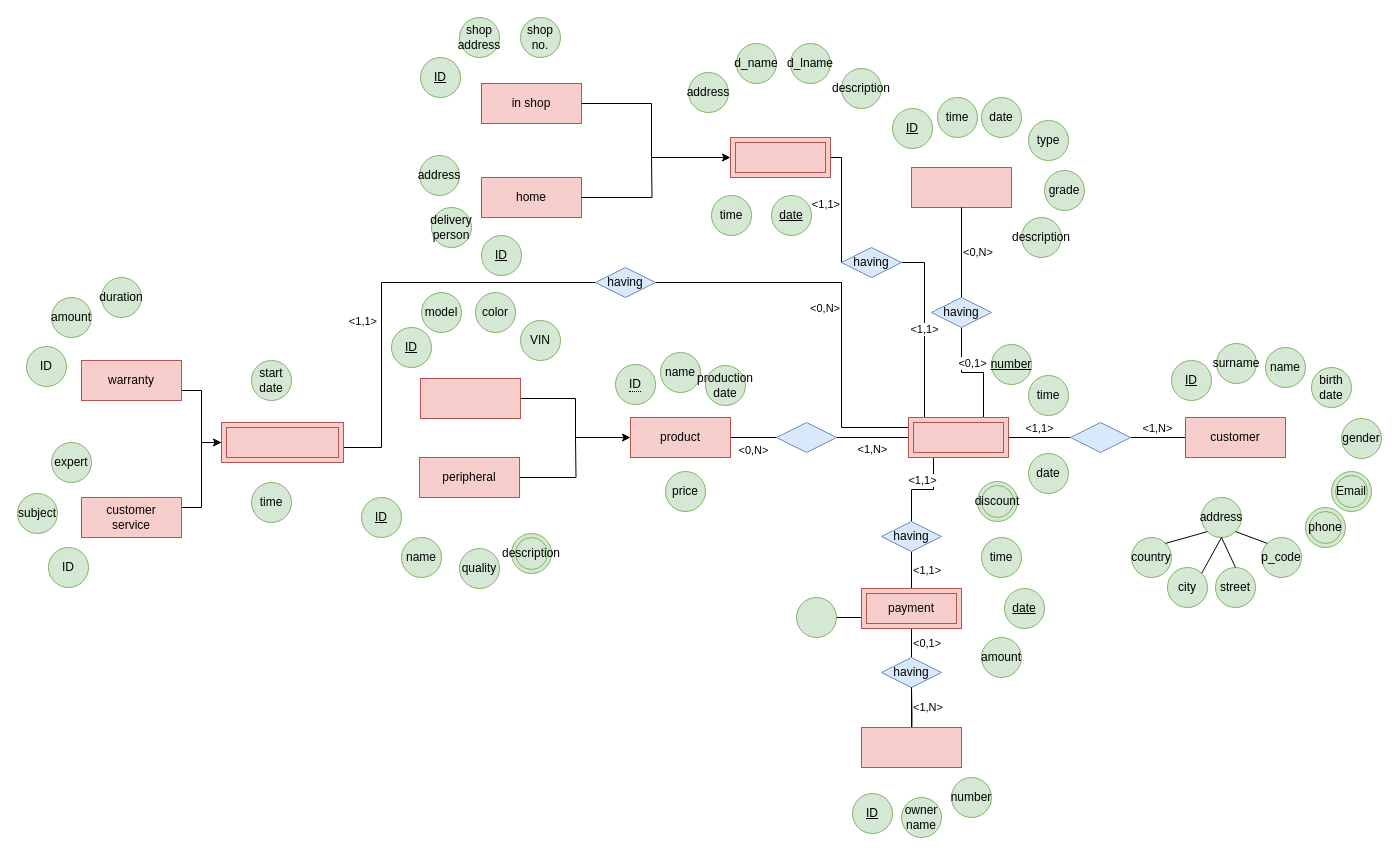
This 1399x855 diagram has some shape labels left out. The shapes that lost their labels are listed below. From the top down, each one's box as (x1, y1, x2, y2) in pixels, then its label:
(730, 136, 830, 178): delivery
(910, 166, 1012, 208): customer satissfaction
(420, 378, 520, 418): car
(220, 422, 344, 462): after_sale_service
(776, 422, 836, 452): is being
(908, 416, 1008, 458): purchase
(1070, 422, 1130, 452): do
(796, 596, 836, 638): cash
(860, 726, 962, 768): card
